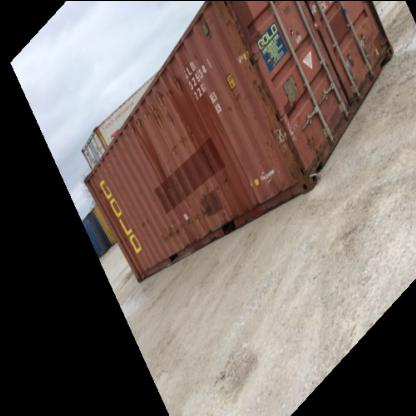Damage: (117, 55, 192, 149), (252, 106, 328, 184), (226, 13, 266, 107), (151, 204, 207, 246), (205, 163, 235, 199)
